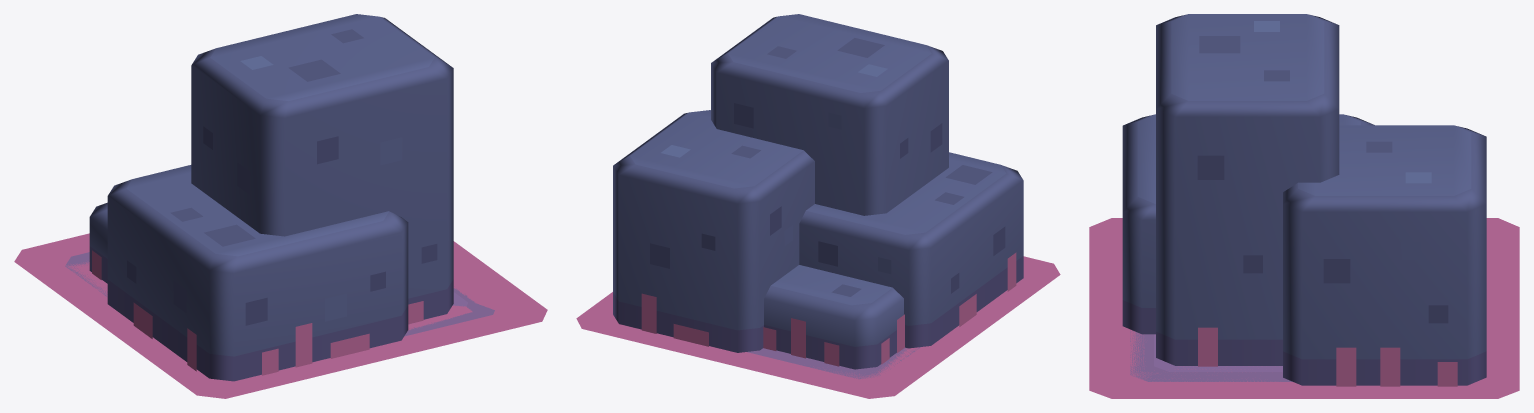
Rendered from B_forest2_rock02.fbx.
The picture shows the model from 3 angles, left to right: view 1: azimuth 30°, elevation 25°; view 2: azimuth 150°, elevation 25°; view 3: azimuth 270°, elevation 25°; orthographic projection. The views are drawn at different scales.
Visible parts, largest first — view 1: model 1, model; view 2: model 1, model; view 3: model 1, model.
Part boxes in pixels (x1,y1,x2,y2): model 1: [14, 14, 547, 398]; model: [27, 238, 531, 391]; model 1: [576, 14, 1060, 398]; model: [588, 268, 1048, 393]; model 1: [1089, 14, 1519, 398]; model: [1099, 222, 1509, 390].
Size of the model in its own units: 4.45 by 3 by 4.47.
